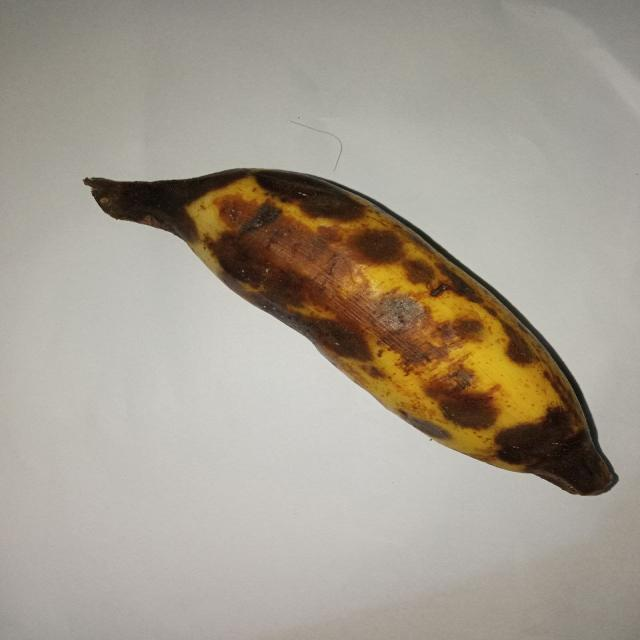rotten_banana: (85, 163, 620, 503)
